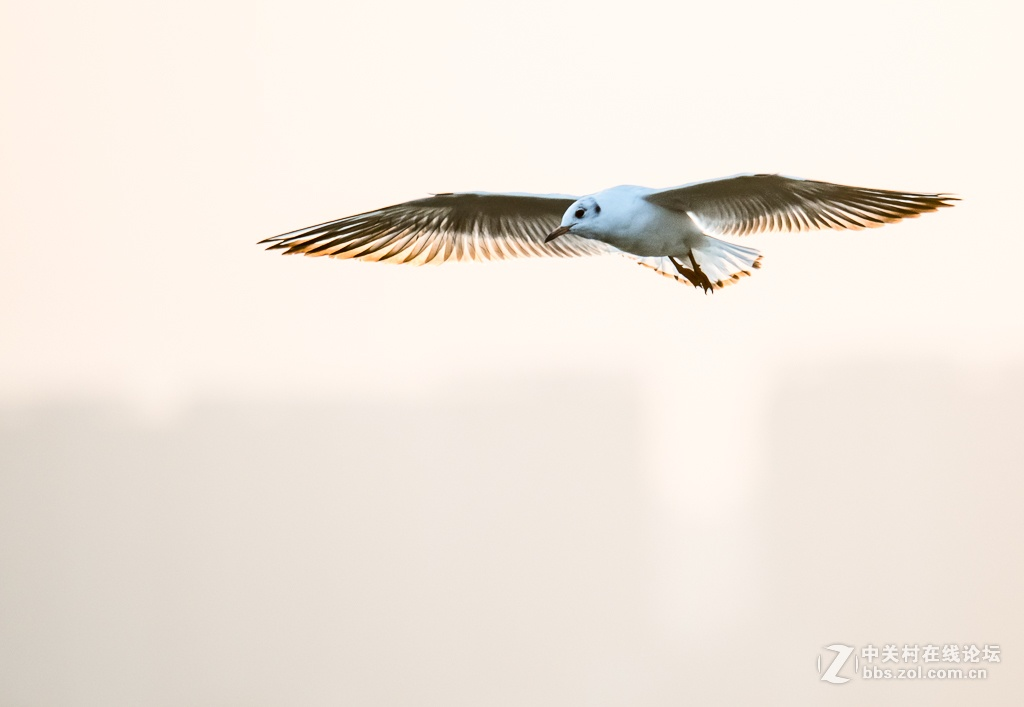bird: (237, 150, 961, 295)
